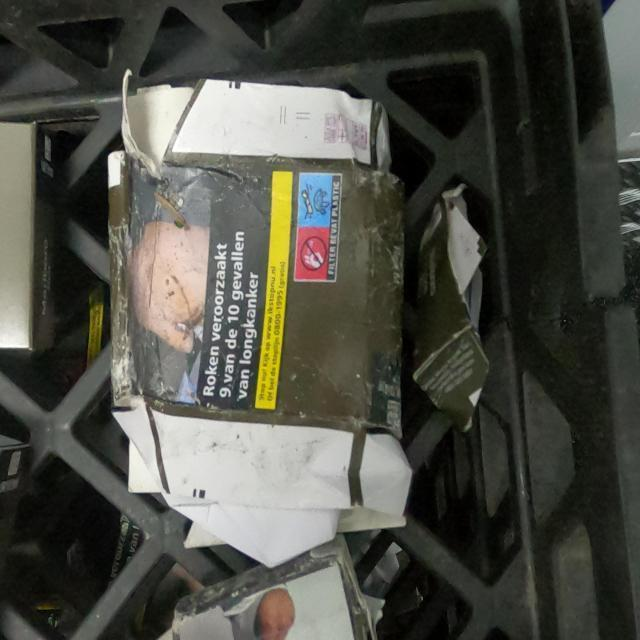Paper: (105, 62, 414, 572), (156, 528, 380, 640)
